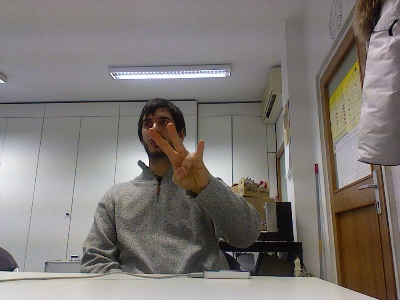观音: (147, 120, 211, 192)
